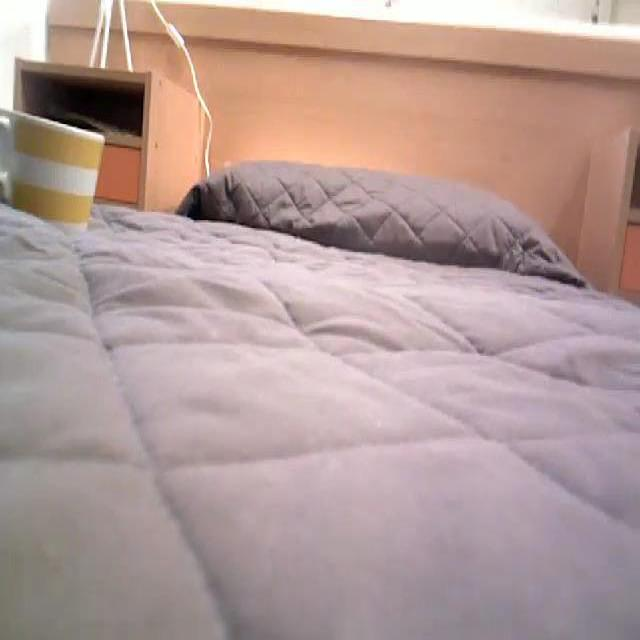cup: (0, 97, 105, 235)
